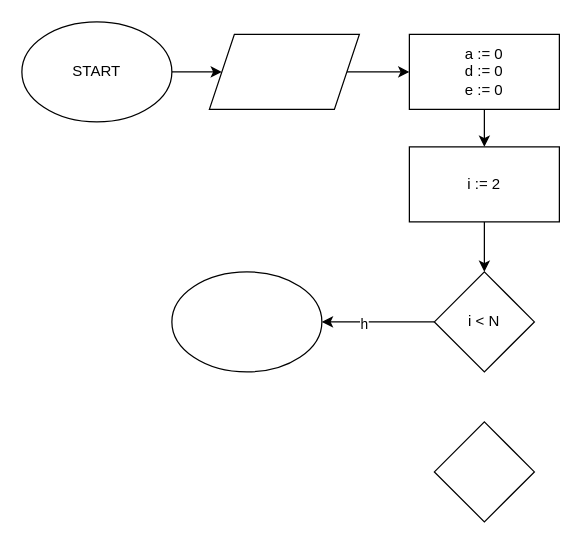
Some shapes in this 581 by 544 pixel diagram are drawn without their labels. The centre of each missing label's shape, as x and y in pixels:
"Be. N, X, A, B, C" goes at point 283,71.
"END" goes at point 246,321.
